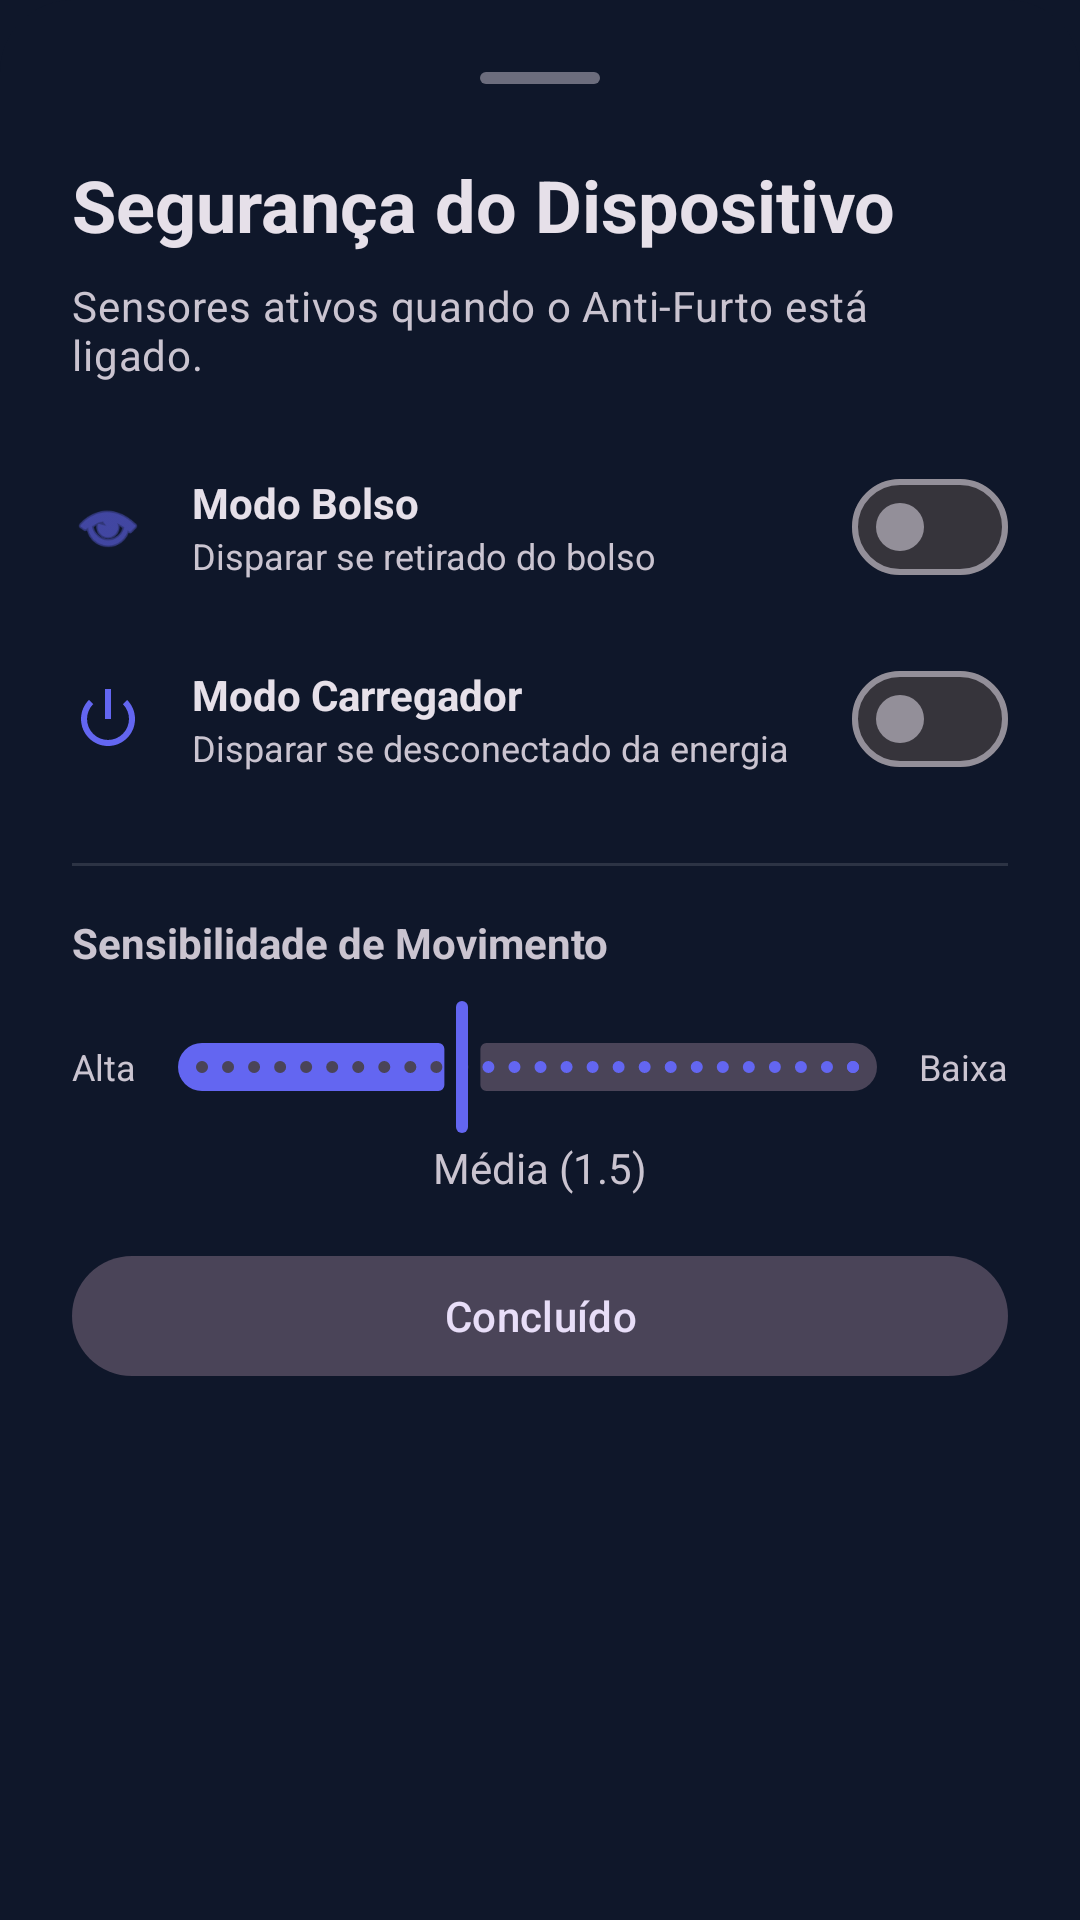

Where icons sit on this 1080px×1920px app screen, as (x1=x1, y1=y1, x2=x2, y2=y2):
lock power off: (x1=81, y1=689, x2=135, y2=746)
view: (x1=79, y1=510, x2=137, y2=547)
